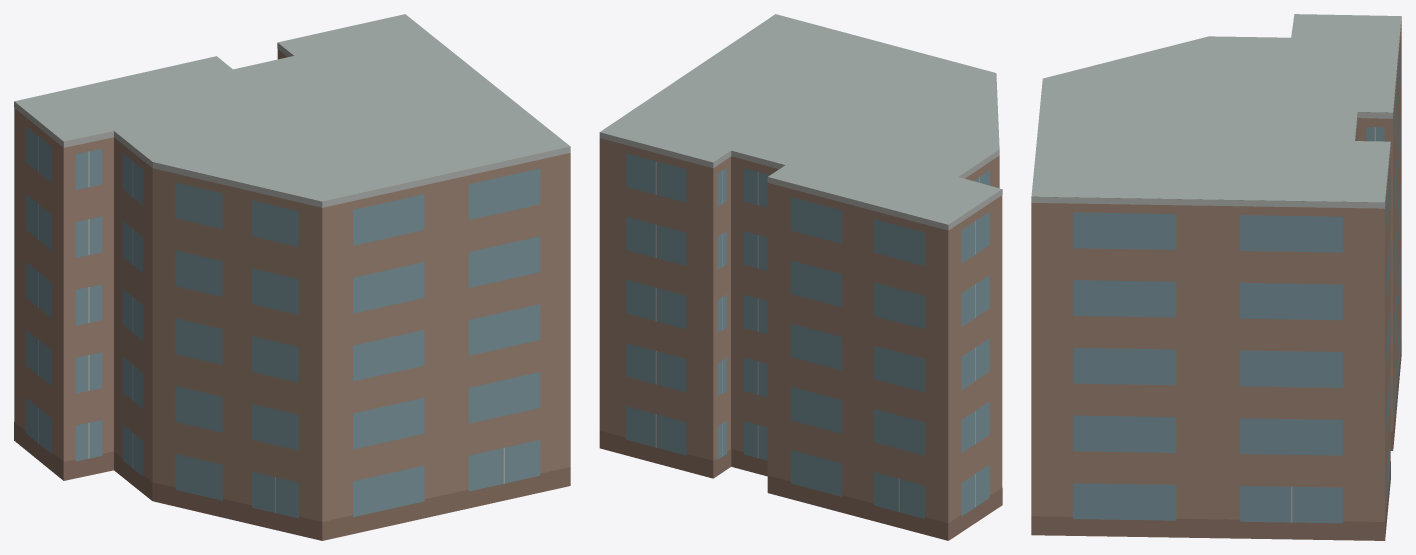
The model's file is survey-upis-32894483.glb.
3 views of the same model, side by side, from view 1: azimuth 30°, elevation 25°; view 2: azimuth 150°, elevation 25°; view 3: azimuth 270°, elevation 25° (orthographic). The views are drawn at different scales.
Visible parts, largest first — view 1: survey-upis-32894483.tmp; view 2: survey-upis-32894483.tmp; view 3: survey-upis-32894483.tmp.
Boxes of the visible parts, x1,y1,x2,y2 form: survey-upis-32894483.tmp: (14, 14, 570, 540); survey-upis-32894483.tmp: (599, 14, 1002, 540); survey-upis-32894483.tmp: (1031, 14, 1401, 540).
Size of the model in its own units: 15.89 by 13.3 by 13.19.
